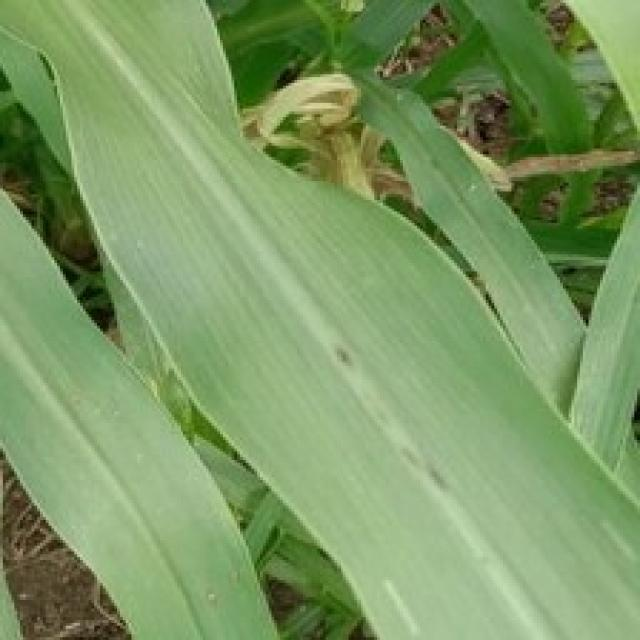Corn: (0, 0, 637, 637), (0, 0, 291, 637)
